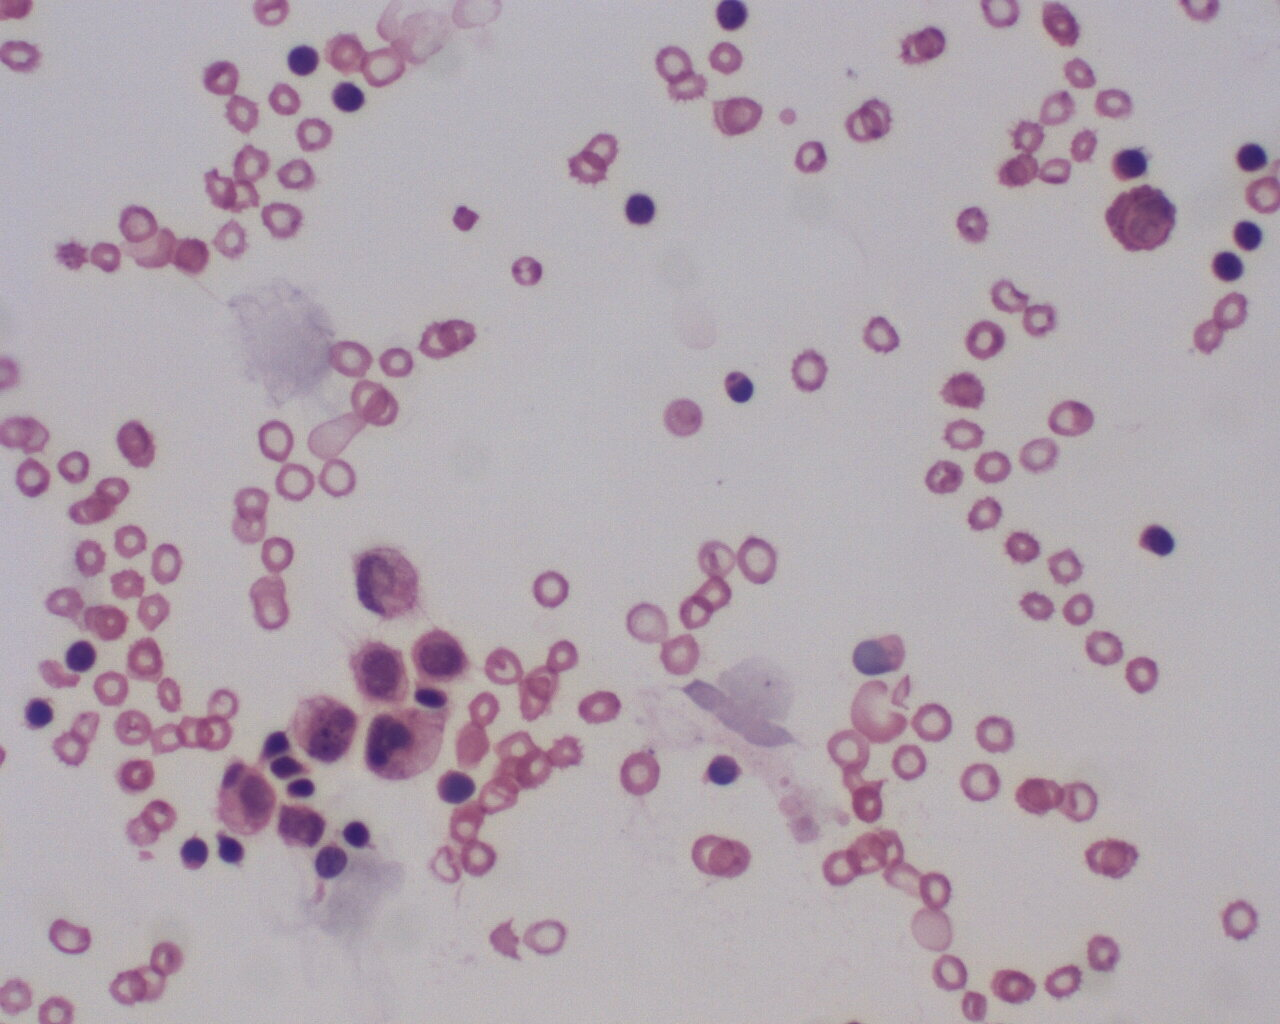ab: (288, 683, 364, 769), (344, 639, 412, 703), (409, 627, 471, 683)
lymph: (1109, 138, 1157, 184), (621, 185, 658, 232), (62, 636, 102, 678), (177, 832, 216, 875), (282, 41, 324, 80), (1207, 248, 1247, 286), (1229, 214, 1265, 251), (1232, 141, 1271, 170)
